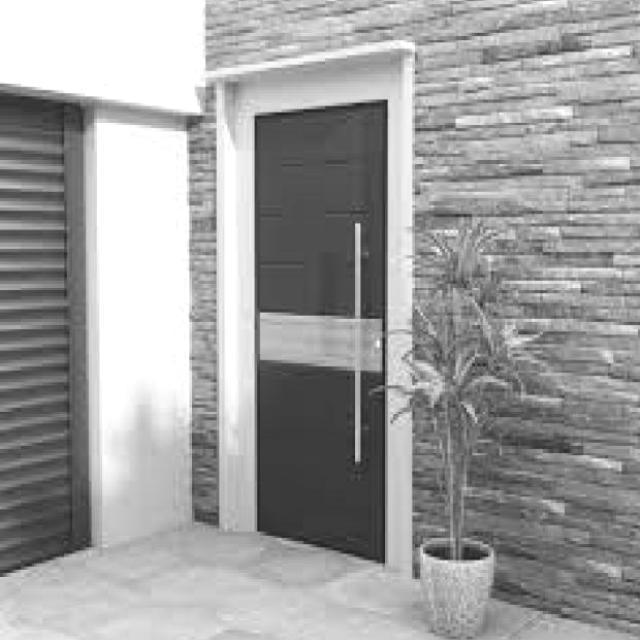door: (253, 99, 387, 563)
